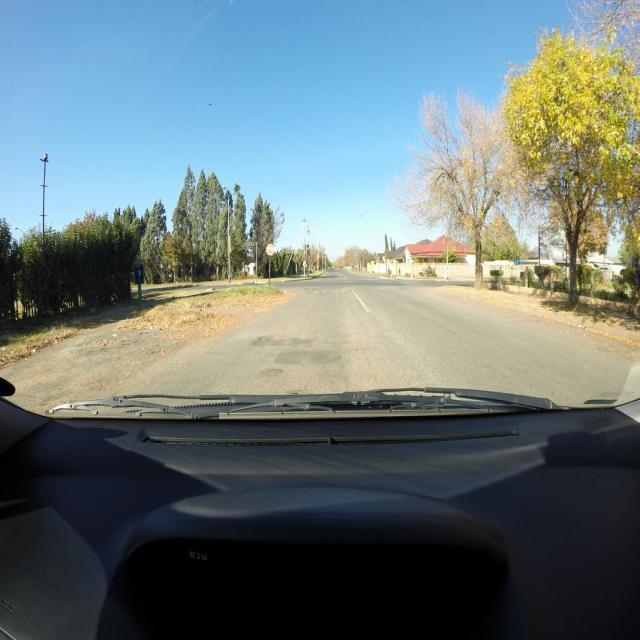Pothole: (259, 335, 287, 340)
